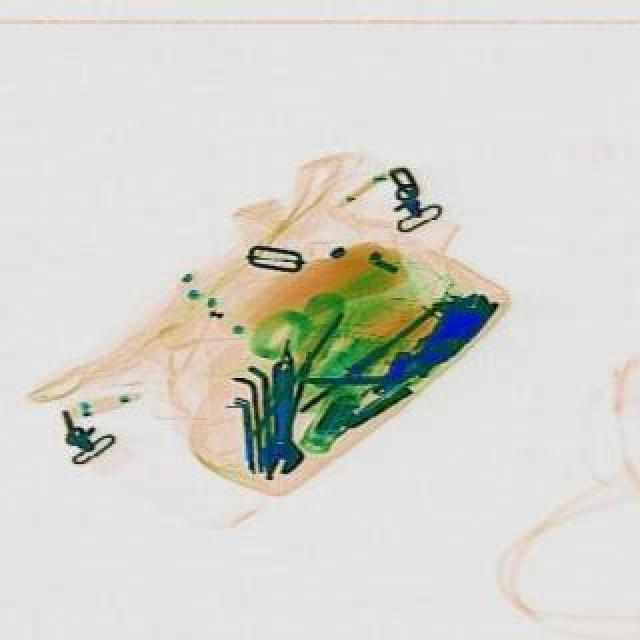scissors: (254, 360, 302, 476)
